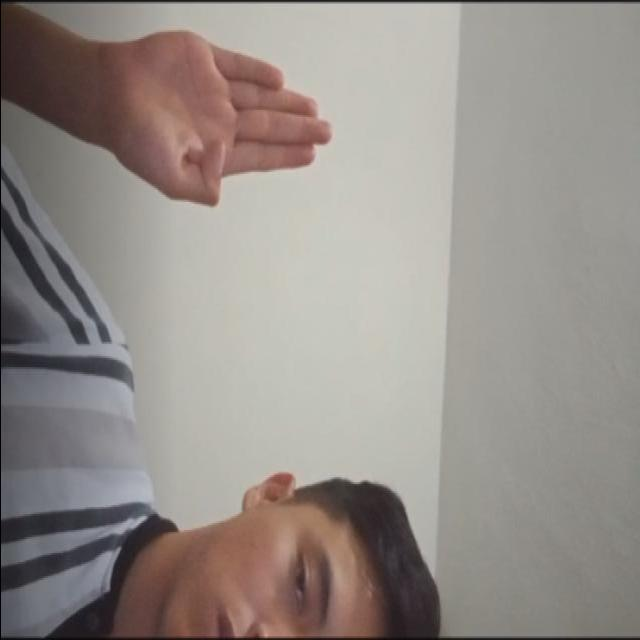B: (75, 12, 332, 246)
